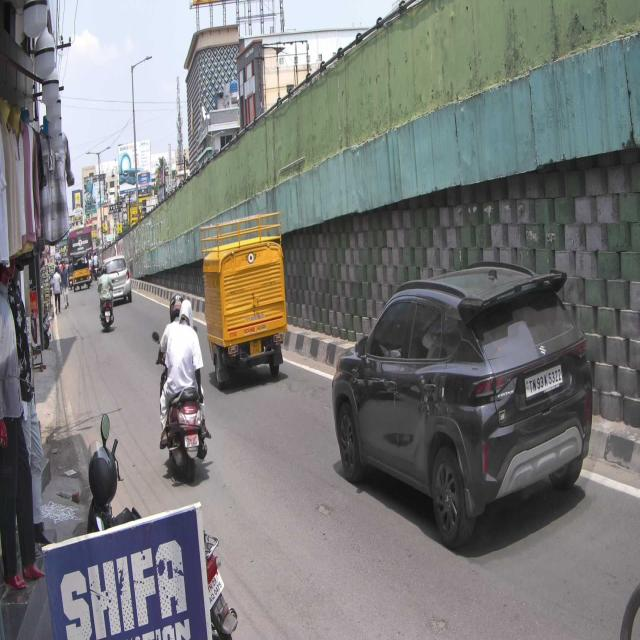double_rider: (150, 289, 212, 485)
